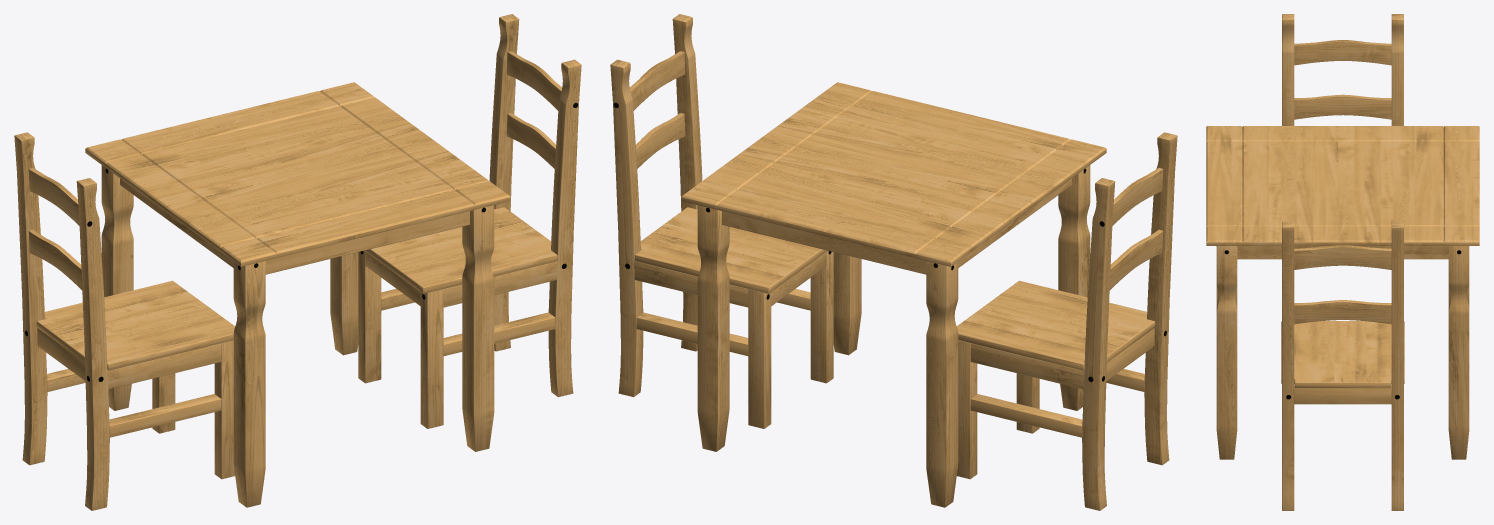
3 views of the same model, side by side, from view 1: azimuth 30°, elevation 25°; view 2: azimuth 150°, elevation 25°; view 3: azimuth 270°, elevation 25° (orthographic). The views are drawn at different scales.
Parts seen in each view (by area): view 1: B002CM3J2A; view 2: B002CM3J2A; view 3: B002CM3J2A.
Part boxes in pixels (bbox=[...]): B002CM3J2A: bbox=[14, 14, 581, 510]; B002CM3J2A: bbox=[610, 14, 1177, 510]; B002CM3J2A: bbox=[1206, 14, 1479, 510].
Size of the model in its own units: 1.5 by 0.9417 by 0.8128.
Materials: 1 (1 with a texture image).
